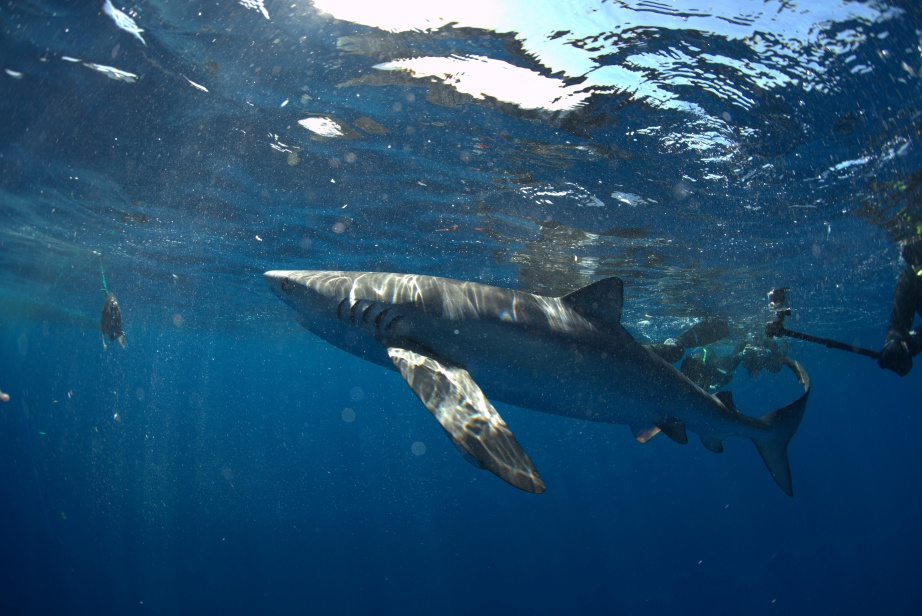Azul: (250, 220, 820, 504)
